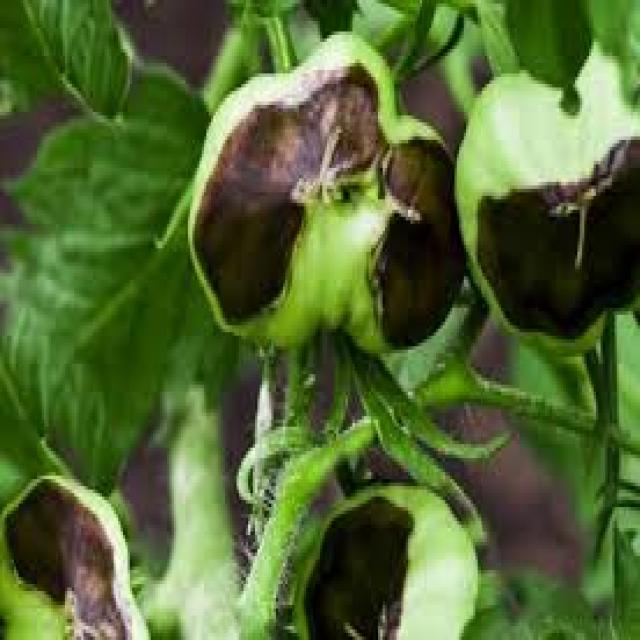food_waste: (0, 0, 638, 637)
